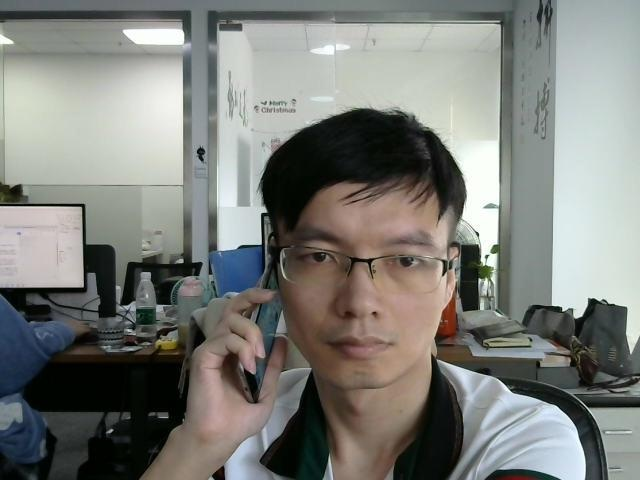hand: (185, 284, 288, 431)
